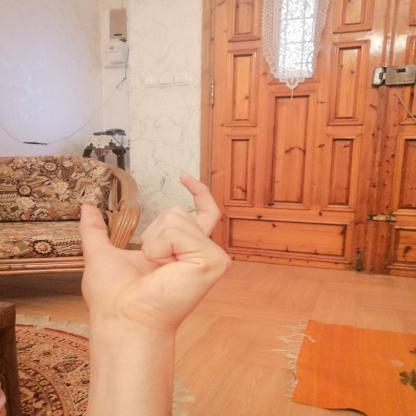NOON: (61, 165, 245, 348)
